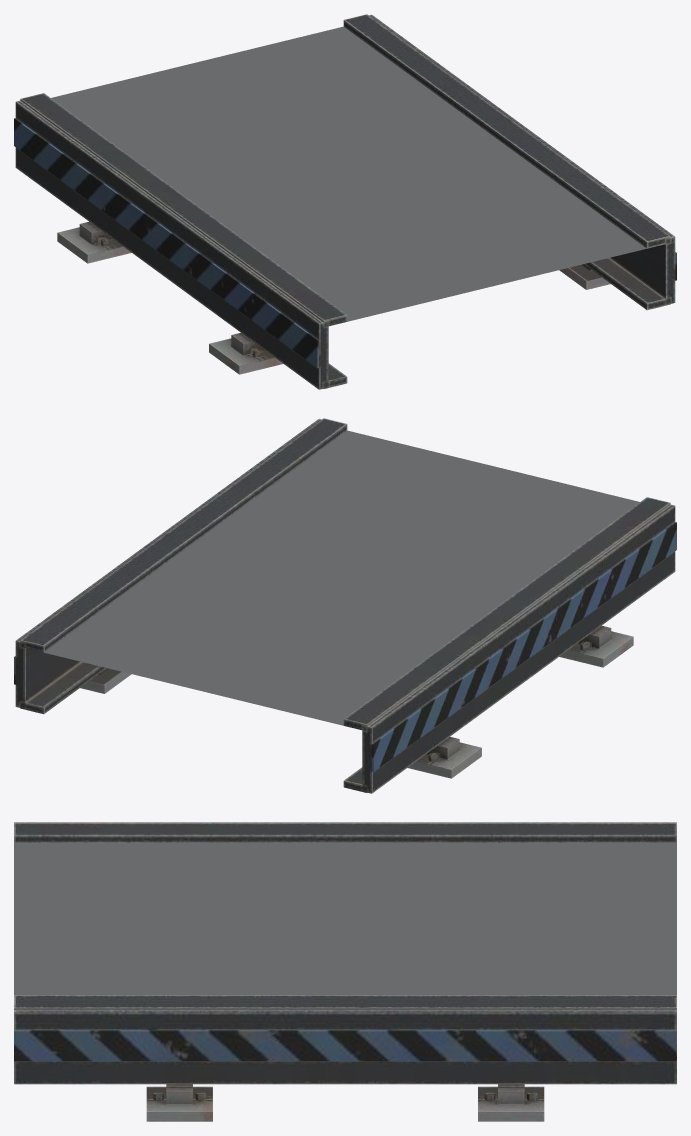
File: esteira_reta_expressa.glb
The picture shows the model from 3 angles, top to bottom: view 1: azimuth 30°, elevation 25°; view 2: azimuth 150°, elevation 25°; view 3: azimuth 270°, elevation 25°; orthographic projection. The views are drawn at different scales.
Parts seen in each view (by area): view 1: esteira_reta_expressa_corpo; view 2: esteira_reta_expressa_corpo; view 3: esteira_reta_expressa_corpo.
Part boxes in pixels (<box>): esteira_reta_expressa_corpo: <box>14,14,676,389</box>; esteira_reta_expressa_corpo: <box>14,418,676,793</box>; esteira_reta_expressa_corpo: <box>14,822,676,1121</box>.
Size of the model in its own units: 0.75 by 0.168 by 1.
2 materials, 1 textured.
